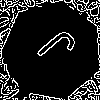J: (27, 25, 79, 75)
